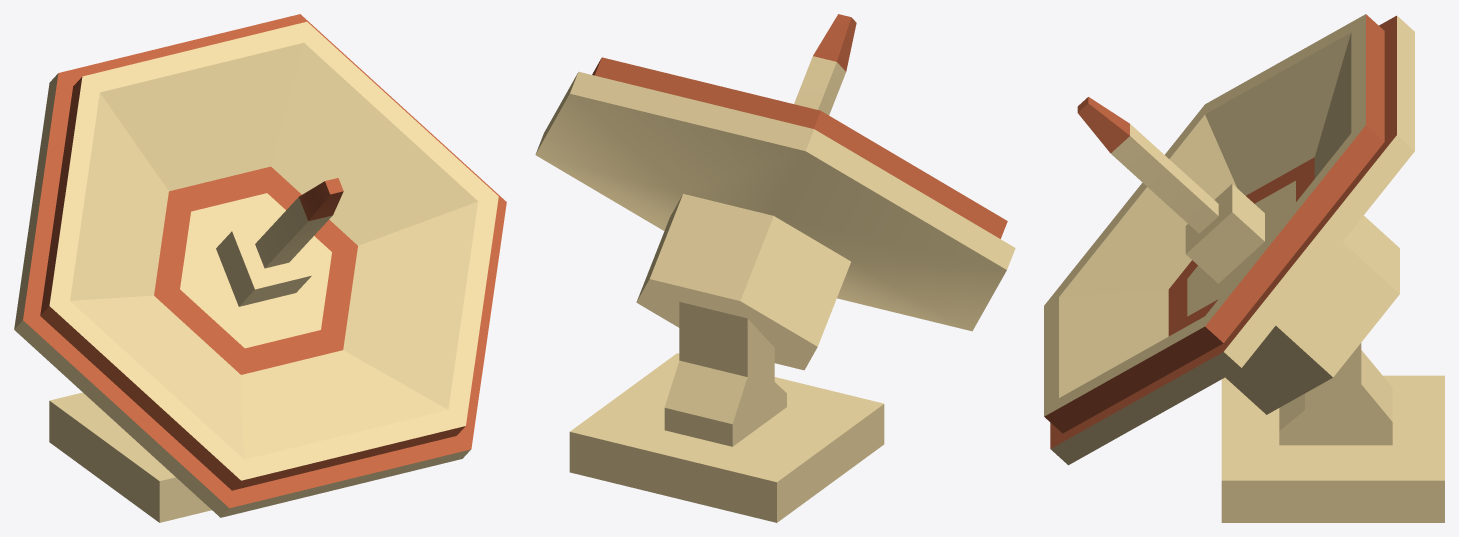
Rendered from satelliteDishAntenna.glb.
3 renders of one model, left to right at view 1: azimuth 30°, elevation 25°; view 2: azimuth 150°, elevation 25°; view 3: azimuth 270°, elevation 25°, orthographic. The views are drawn at different scales.
Visible parts, largest first — view 1: satelliteDishAntenna; view 2: satelliteDishAntenna; view 3: satelliteDishAntenna.
Part boxes in pixels (x1,y1,x2,y2): satelliteDishAntenna: [14, 14, 506, 522]; satelliteDishAntenna: [535, 14, 1015, 522]; satelliteDishAntenna: [1044, 14, 1444, 522].
Bounding box in the file's own units: 1 × 0.7817 × 0.7082.
